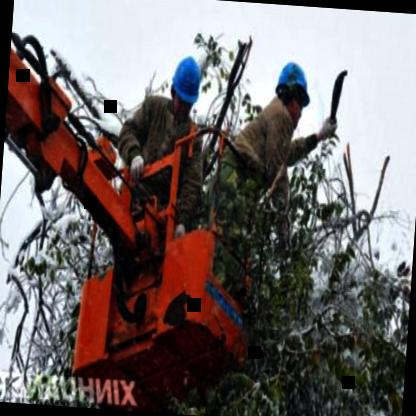helmet: (167, 49, 206, 124), (272, 54, 312, 127)
